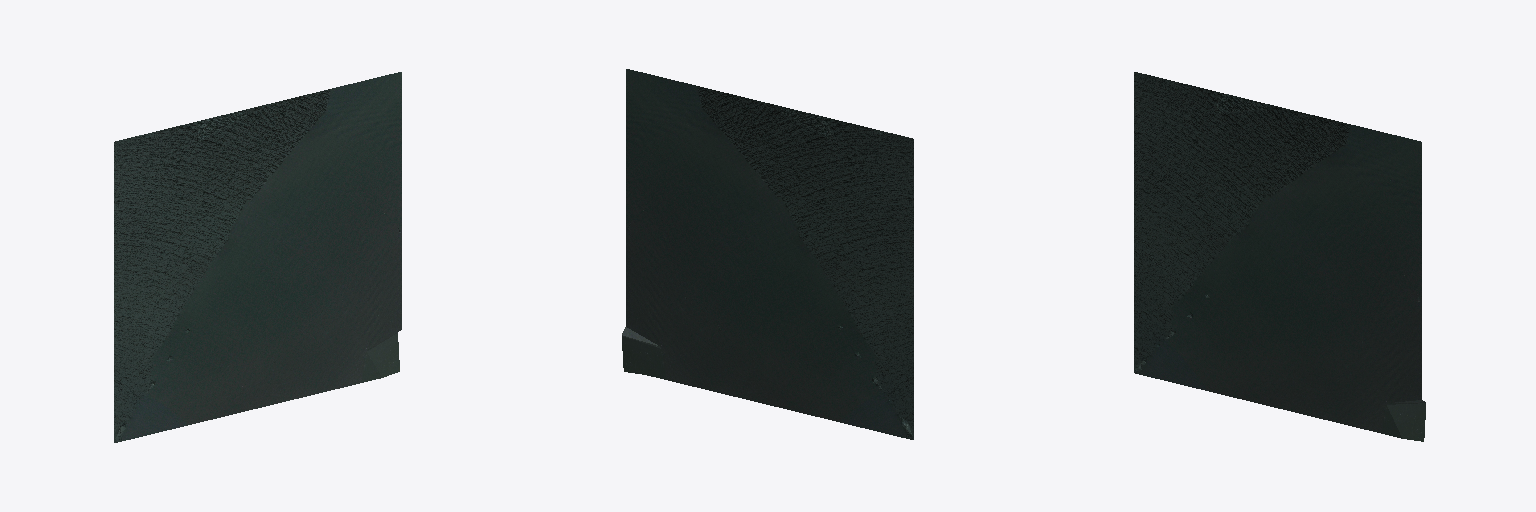
3 renders of one model, left to right at view 1: azimuth 30°, elevation 25°; view 2: azimuth 150°, elevation 25°; view 3: azimuth 330°, elevation 25°, orthographic.
Bounding box in the file's own units: 252 × 252 × 6.61.
Materials: 2 (1 with a texture image).